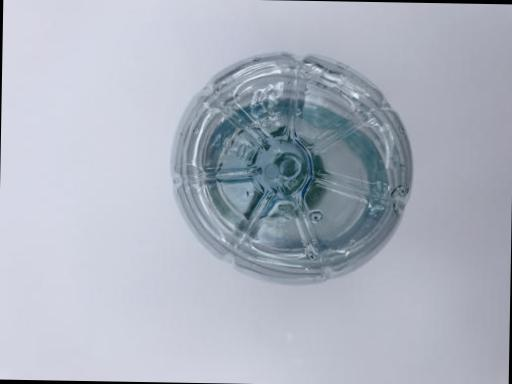plastic: (143, 33, 436, 318)
